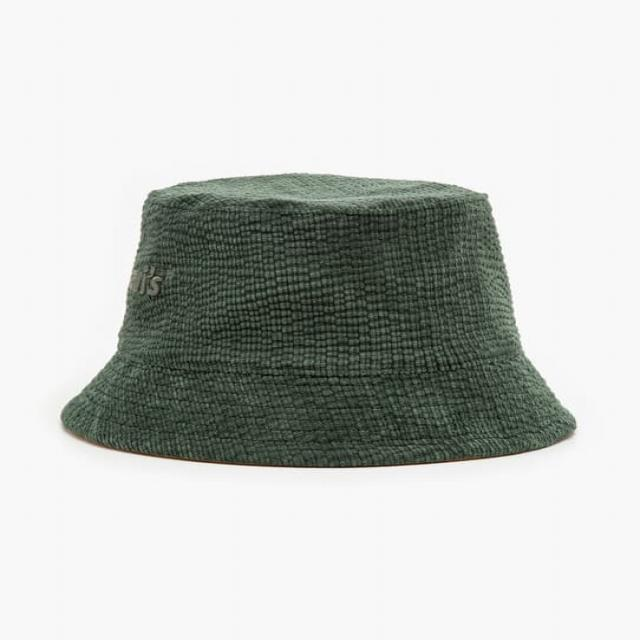mask: (81, 164, 586, 484)
